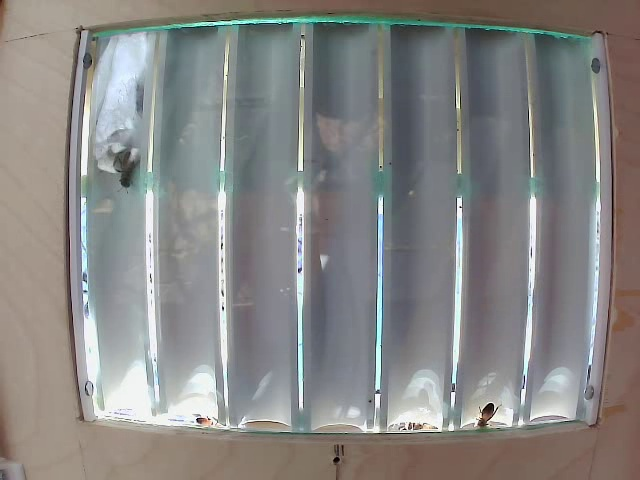bee: (112, 151, 140, 200)
